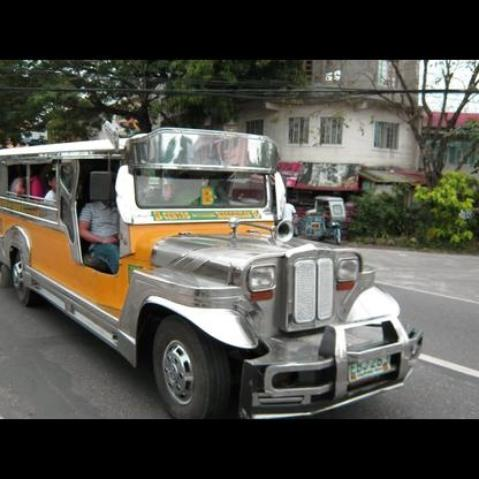jeepney: (3, 121, 419, 419)
